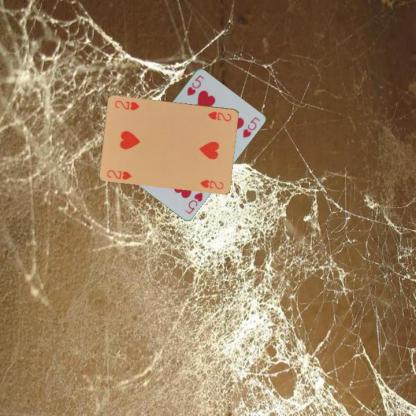2h: (104, 167, 133, 181), (205, 108, 233, 122)
5h: (182, 189, 204, 215), (184, 72, 205, 97)
